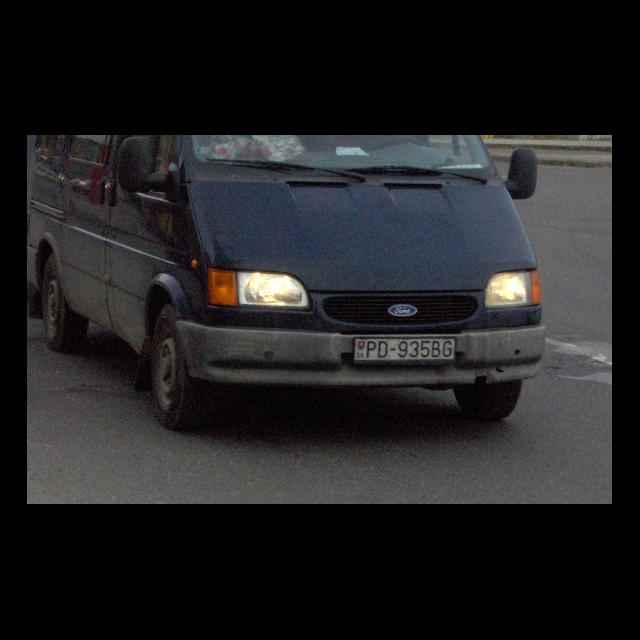Plate: (352, 336, 457, 364)
